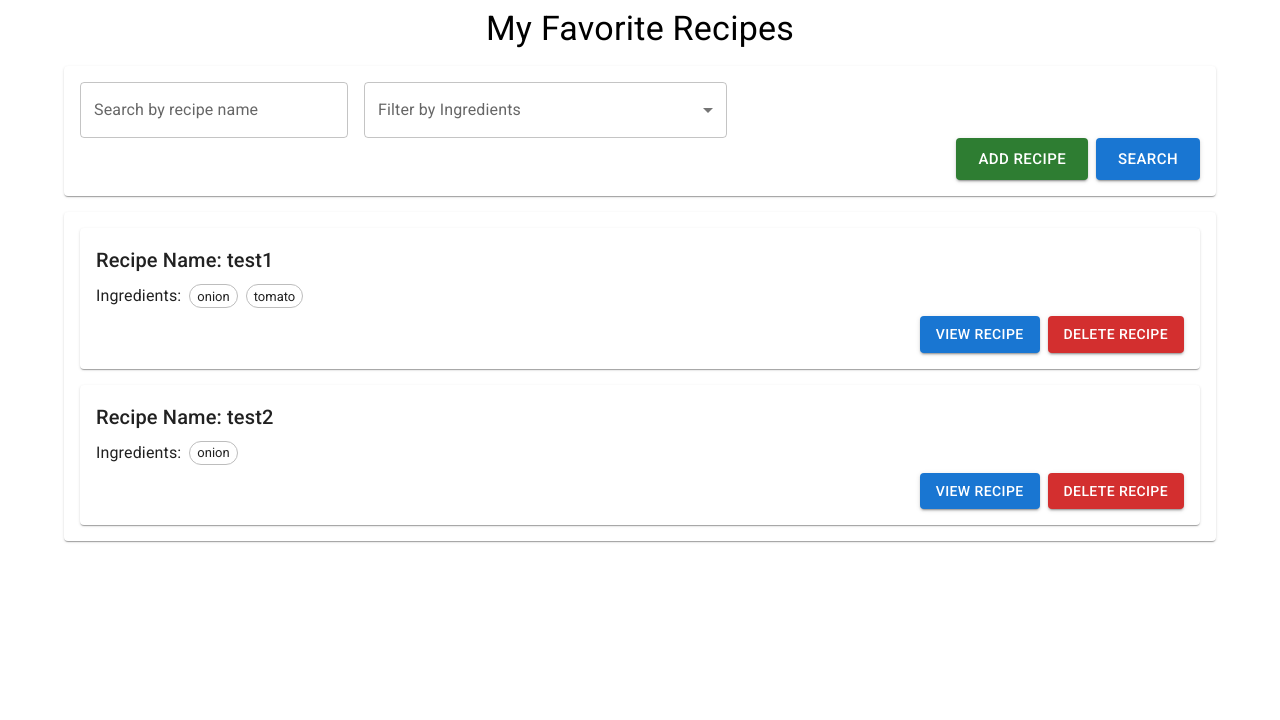
Test: Home › Deletes recipe when clicked delete recipe button
The width and height of the screenshot is (1280, 720).
Expected: the heading "Recipe Name: test1" is shown, [96, 248, 274, 272]
Expected: the heading "Recipe Name: test2" is shown, [96, 405, 274, 429]
Click the button with test id "removeRecipe" at (1116, 334), box [1048, 316, 1184, 353]
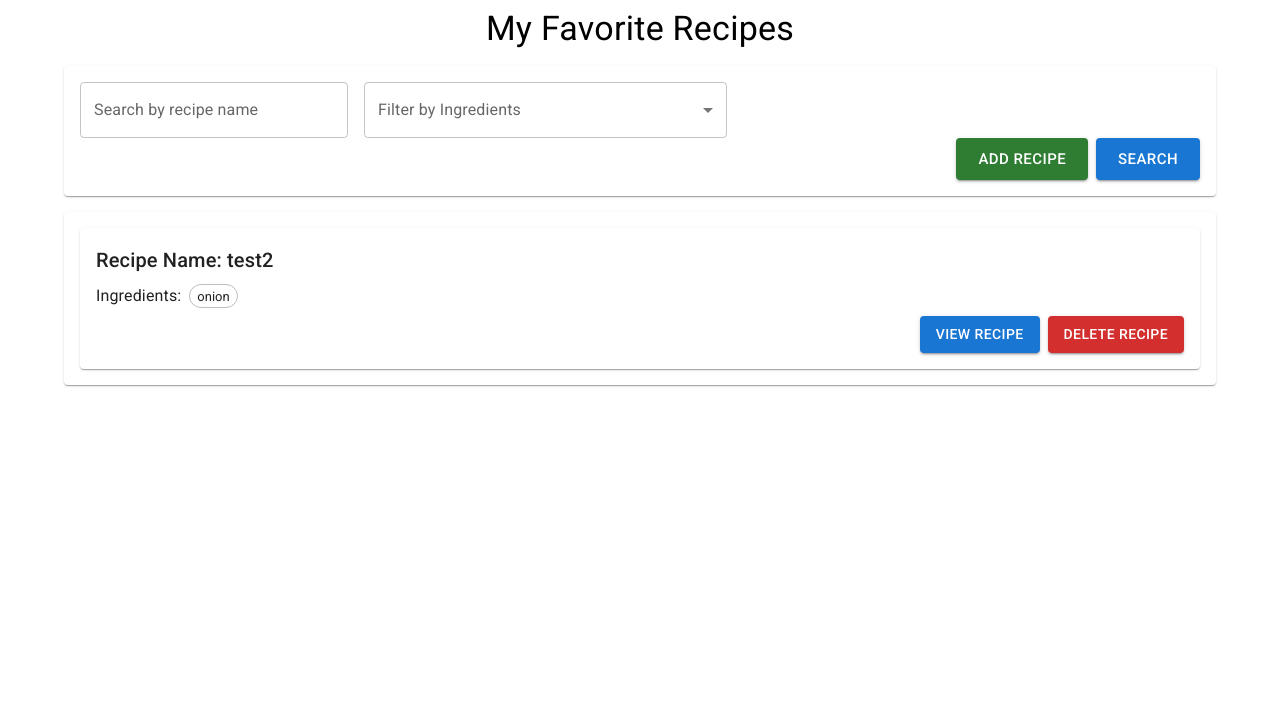
Now the heading "Recipe Name: test1" is gone
